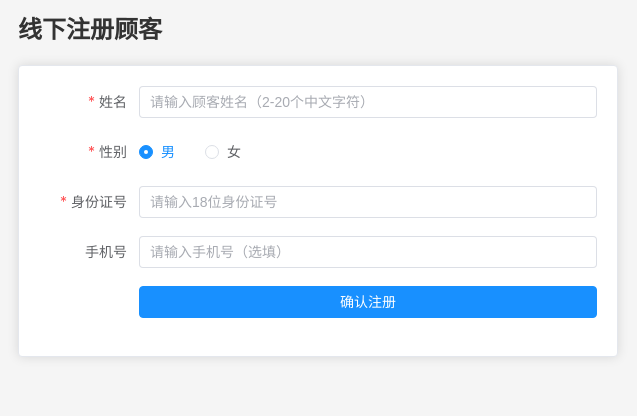
Scenario: OfflineRegister.vue › shows error when submitting with invalid realName
The width and height of the screenshot is (637, 416).
Note: First visible text input should be the name field
Type "ab" into the field with placeholder "请输入顾客姓名（2-20个中文字符）".
click(368, 102); type("ab")  # box [150,87,586,117]
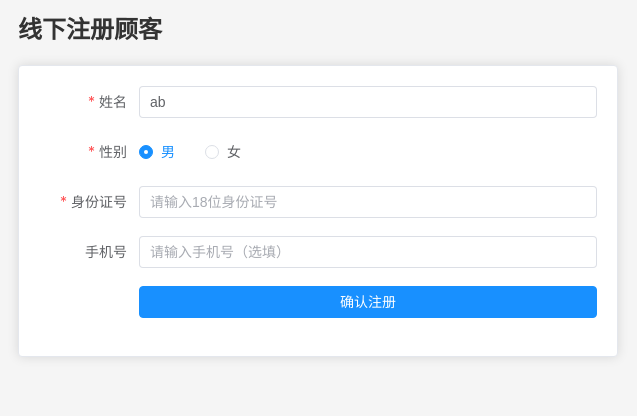
Click the button "确认注册".
click(368, 302)  # box [139,286,597,318]
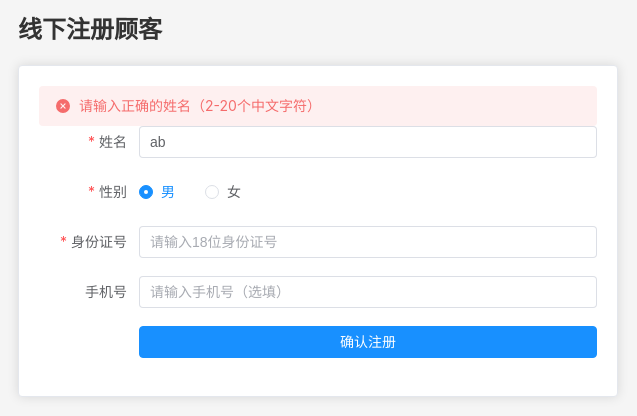
Check: the text "请输入正确" is shown, box [79,97,321,114]
